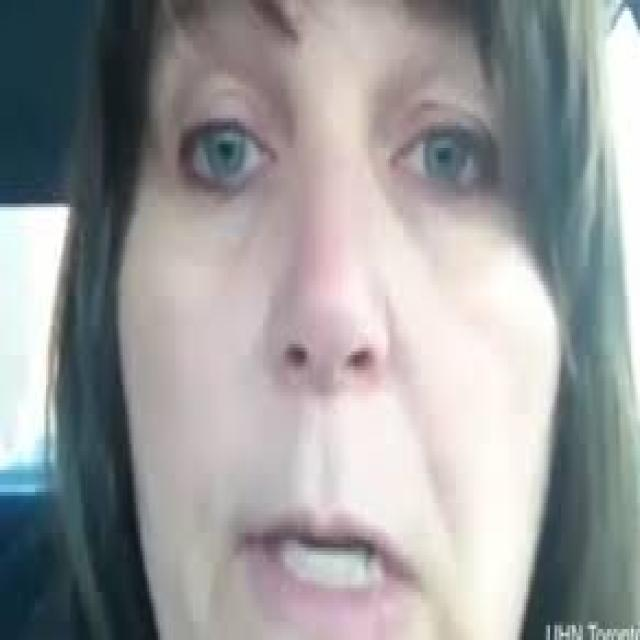stroke_face: (99, 0, 582, 640)
